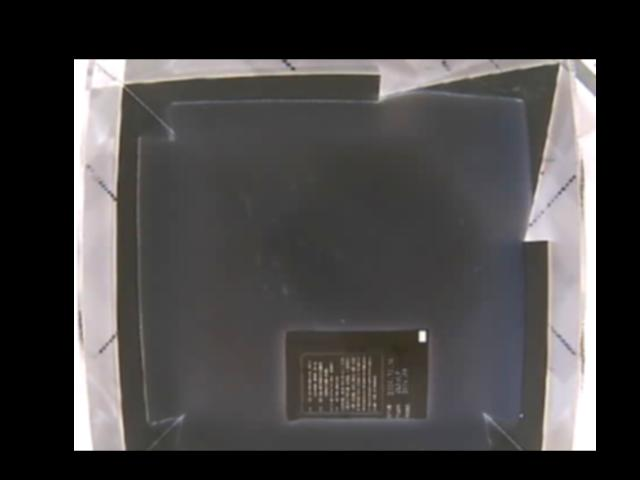Medicine: (282, 327, 429, 419)
